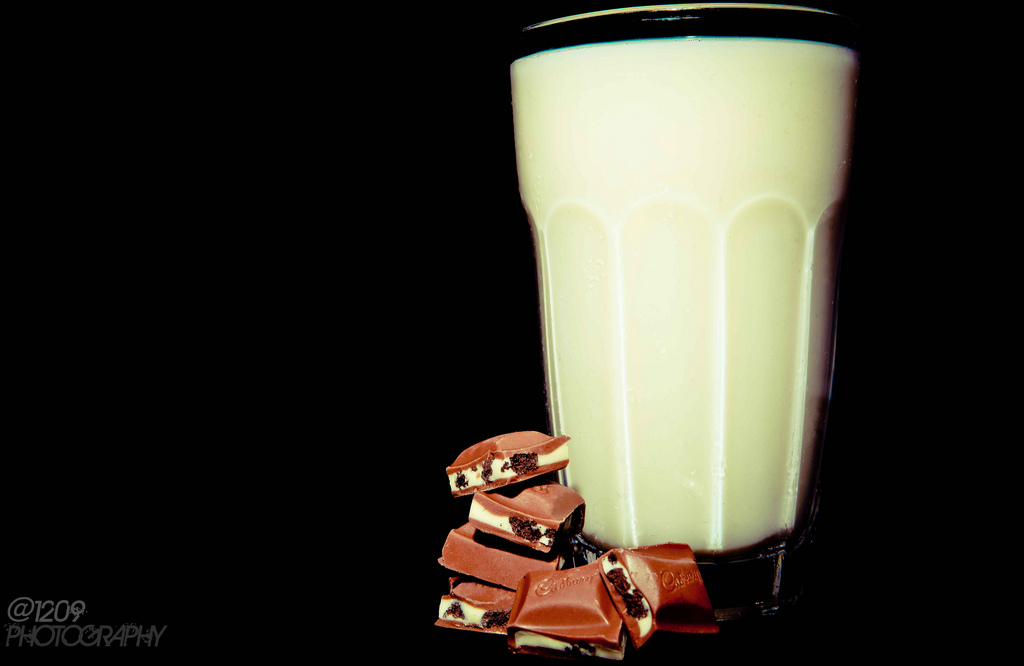glass of water: (498, 15, 866, 603)
